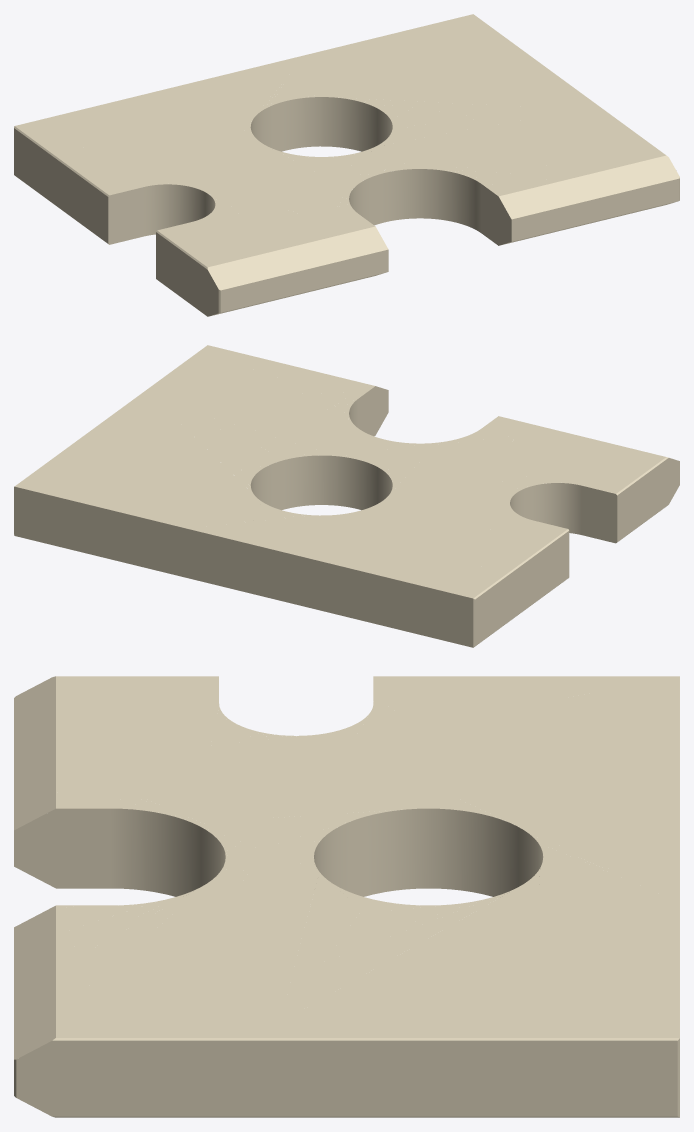
Rendered from asinma-rammer-e-64-02.glb.
3 renders of one model, top to bottom at view 1: azimuth 30°, elevation 25°; view 2: azimuth 150°, elevation 25°; view 3: azimuth 270°, elevation 25°, orthographic. The views are drawn at different scales.
Parts seen in each view (by area): view 1: body; view 2: body; view 3: body.
Boxes of the visible parts, x1,y1,x2,y2 form: body: [14, 14, 679, 316]; body: [14, 345, 679, 647]; body: [14, 676, 679, 1117].
Bounding box in the file's own units: 0.195 × 0.02 × 0.151.
